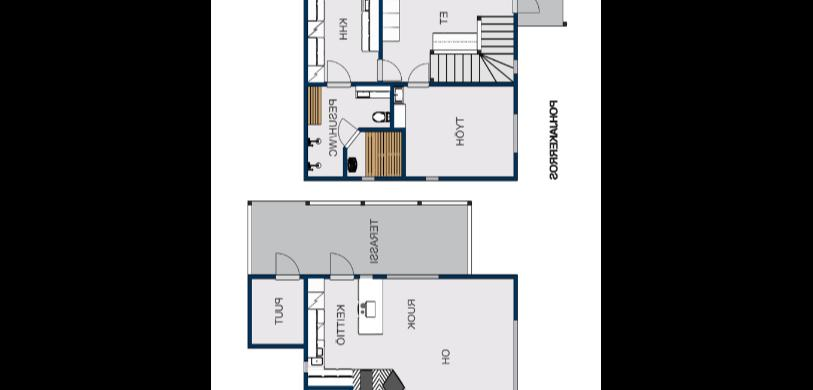bathroom: (354, 85, 392, 129)
door: (274, 250, 301, 282), (326, 58, 353, 90), (328, 250, 354, 281), (337, 113, 360, 148), (406, 60, 431, 88), (375, 58, 404, 82), (511, 0, 542, 15)
perimeter: (304, 0, 518, 181), (247, 272, 518, 390)
stairs: (429, 51, 516, 82), (479, 12, 516, 82)
window: (509, 315, 521, 390), (385, 271, 443, 282), (512, 107, 521, 157), (424, 174, 443, 184), (512, 58, 520, 76), (302, 357, 310, 374), (360, 175, 378, 182)
